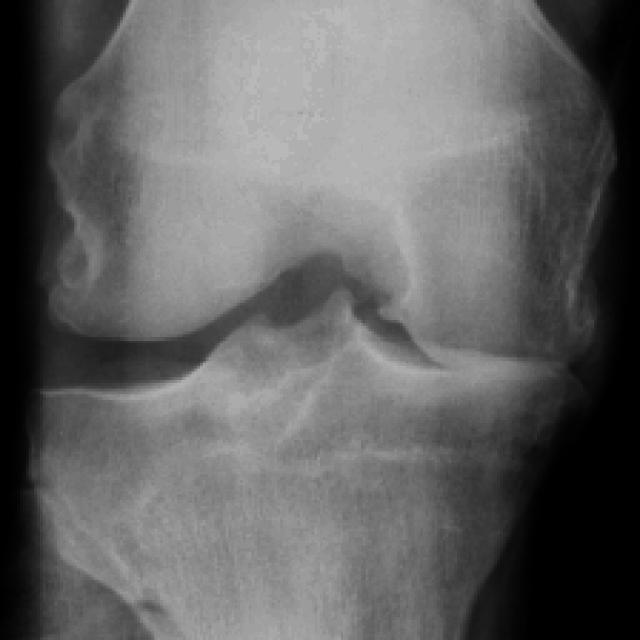femur: (56, 1, 614, 369)
tibia: (27, 291, 566, 639)
